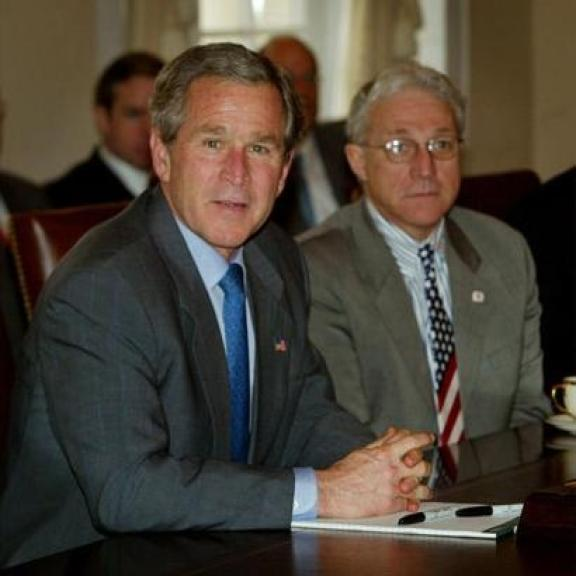face: (147, 79, 299, 244), (347, 91, 461, 229), (95, 68, 160, 166)
